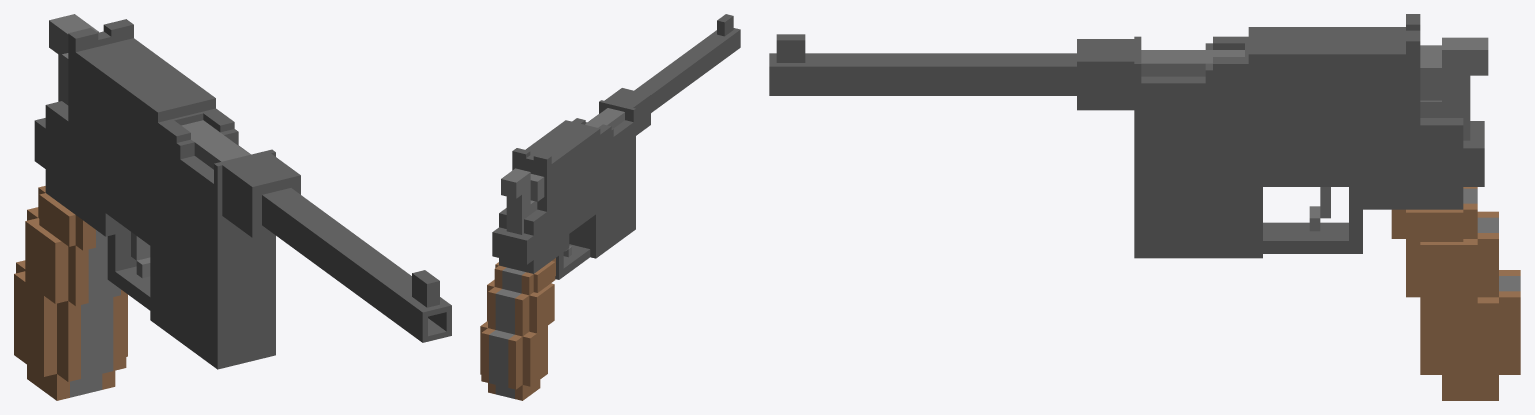
Rendered from old_pistol.fbx.
3 renders of one model, left to right at view 1: azimuth 30°, elevation 25°; view 2: azimuth 150°, elevation 25°; view 3: azimuth 270°, elevation 25°, orthographic. The views are drawn at different scales.
Visible parts, largest first — view 1: old_pistol_base, old_pistol_bolt, old_pistol_hammer, old_pistol_trigger; view 2: old_pistol_base, old_pistol_hammer, old_pistol_bolt; view 3: old_pistol_base, old_pistol_hammer, old_pistol_bolt, old_pistol_trigger.
Boxes of the visible parts, x1,y1,x2,y2 form: old_pistol_base: (14, 19, 451, 400); old_pistol_bolt: (61, 53, 250, 169); old_pistol_hammer: (49, 14, 98, 105); old_pistol_trigger: (131, 232, 150, 278); old_pistol_base: (480, 14, 740, 400); old_pistol_hammer: (501, 168, 537, 234); old_pistol_bolt: (530, 108, 624, 201); old_pistol_base: (769, 14, 1520, 400); old_pistol_hammer: (1420, 37, 1488, 140); old_pistol_bolt: (1141, 45, 1441, 100); old_pistol_trigger: (1309, 187, 1330, 231).
Size of the model in its own units: 7.8 by 33.3 by 63.
